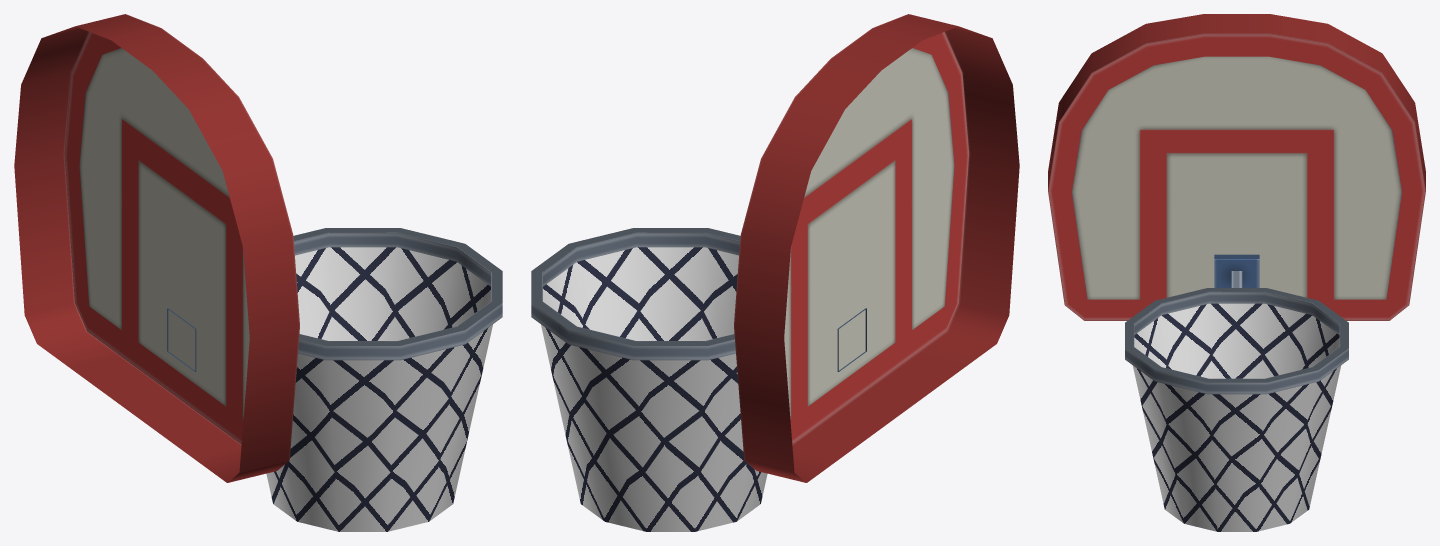
File: bg_basket.FBX
3 views of the same model, side by side, from view 1: azimuth 30°, elevation 25°; view 2: azimuth 150°, elevation 25°; view 3: azimuth 270°, elevation 25° (orthographic). The views are drawn at different scales.
Visible parts, largest first — view 1: bg_basket; view 2: bg_basket; view 3: bg_basket.
Part boxes in pixels (x1,y1,x2,y2): bg_basket: (14, 14, 502, 531); bg_basket: (531, 14, 1019, 531); bg_basket: (1048, 14, 1425, 531).
Size of the model in its own units: 11.23 by 15.09 by 13.02.
